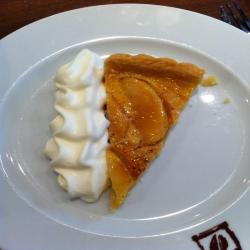apple_pie: (92, 50, 210, 205)
chantilly: (42, 51, 115, 207)
